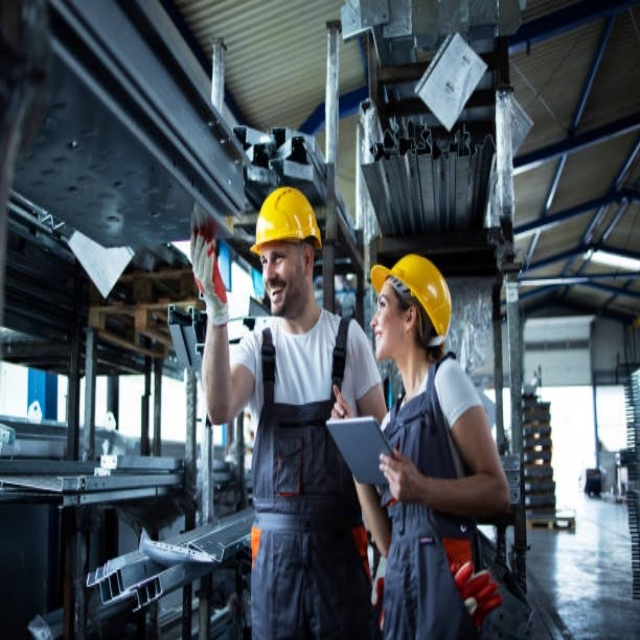Guantes: (186, 199, 235, 333)
Sin_gafas: (258, 245, 295, 273), (374, 289, 397, 314)
Sin_guantes: (376, 445, 416, 506)
Sin_mascara: (264, 278, 285, 311), (373, 323, 389, 355)
